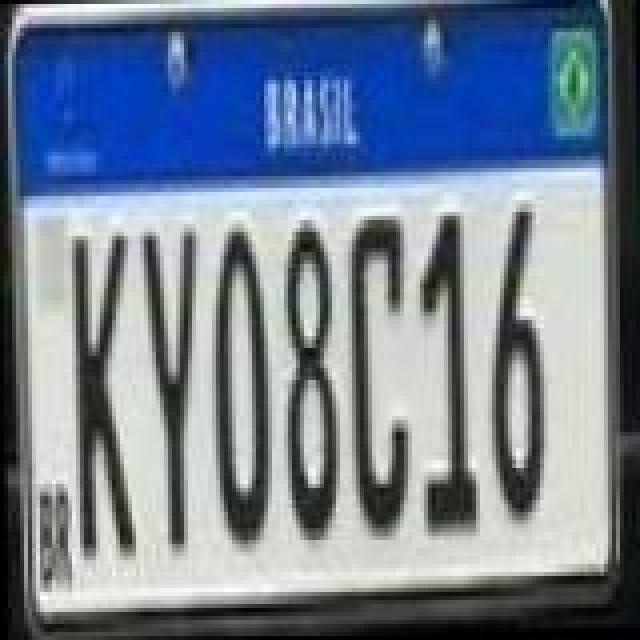1: (414, 202, 478, 534)
6: (484, 198, 544, 518)
8: (282, 220, 342, 540)
C: (346, 212, 410, 532)
K: (68, 228, 132, 560)
O: (212, 226, 276, 558)
Y: (140, 232, 204, 552)
